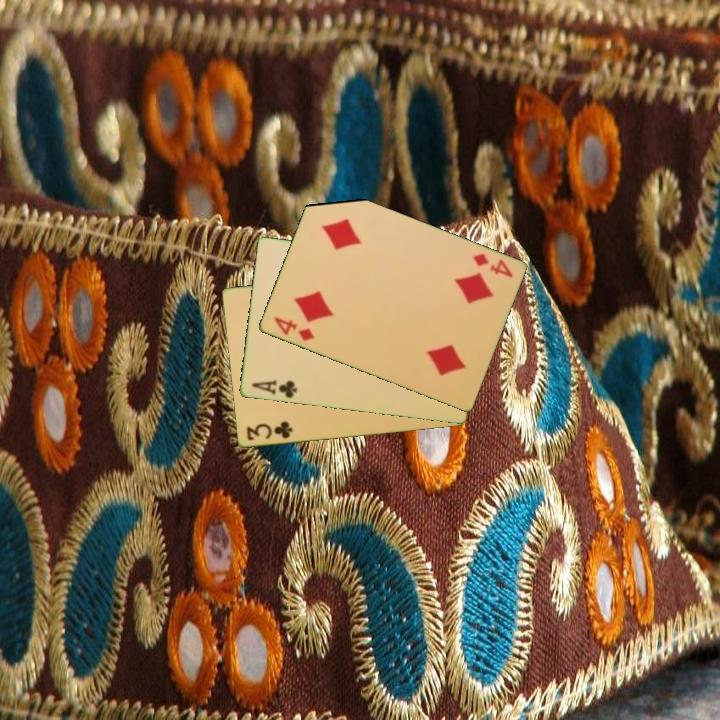3c: (243, 418, 295, 443)
4d: (468, 250, 516, 281), (270, 313, 317, 344)
Ac: (248, 376, 299, 401)
